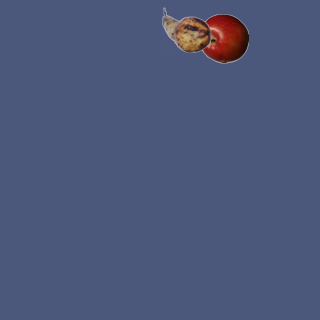Apple Braeburn: (198, 13, 248, 63)
Pear Abate: (161, 5, 211, 55)
